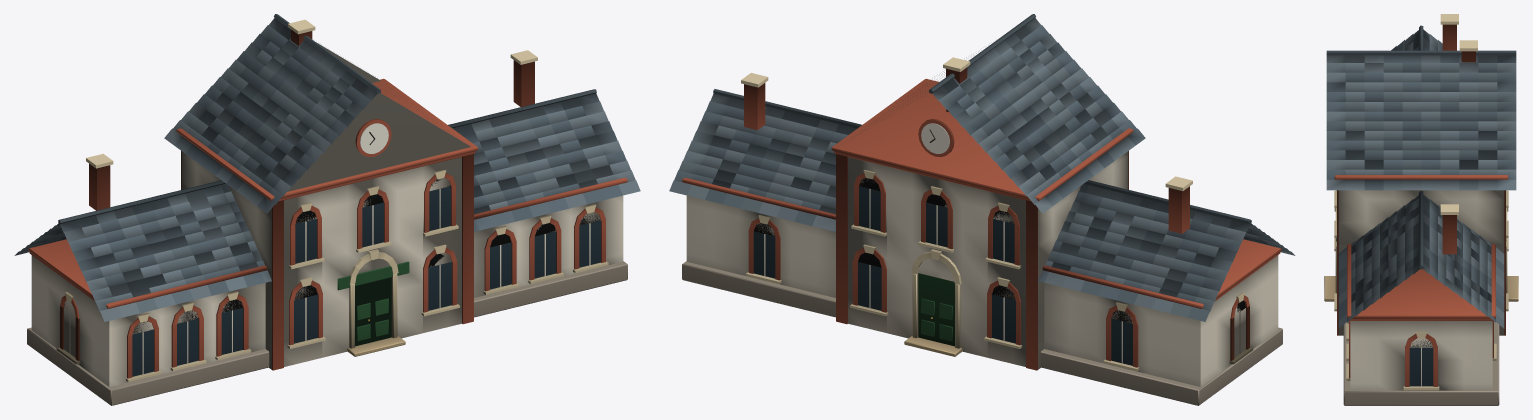
Rendered from station_building.glb.
The picture shows the model from 3 angles, left to right: view 1: azimuth 30°, elevation 25°; view 2: azimuth 150°, elevation 25°; view 3: azimuth 270°, elevation 25°; orthographic projection. The views are drawn at different scales.
Parts seen in each view (by area): view 1: station_building_mesh; view 2: station_building_mesh; view 3: station_building_mesh.
Part boxes in pixels (box(x1,y1,x2,y2)): station_building_mesh: box(14, 14, 640, 405); station_building_mesh: box(669, 14, 1295, 405); station_building_mesh: box(1324, 14, 1518, 405).
Bounding box in the file's own units: 24 × 11.47 × 8.2.
